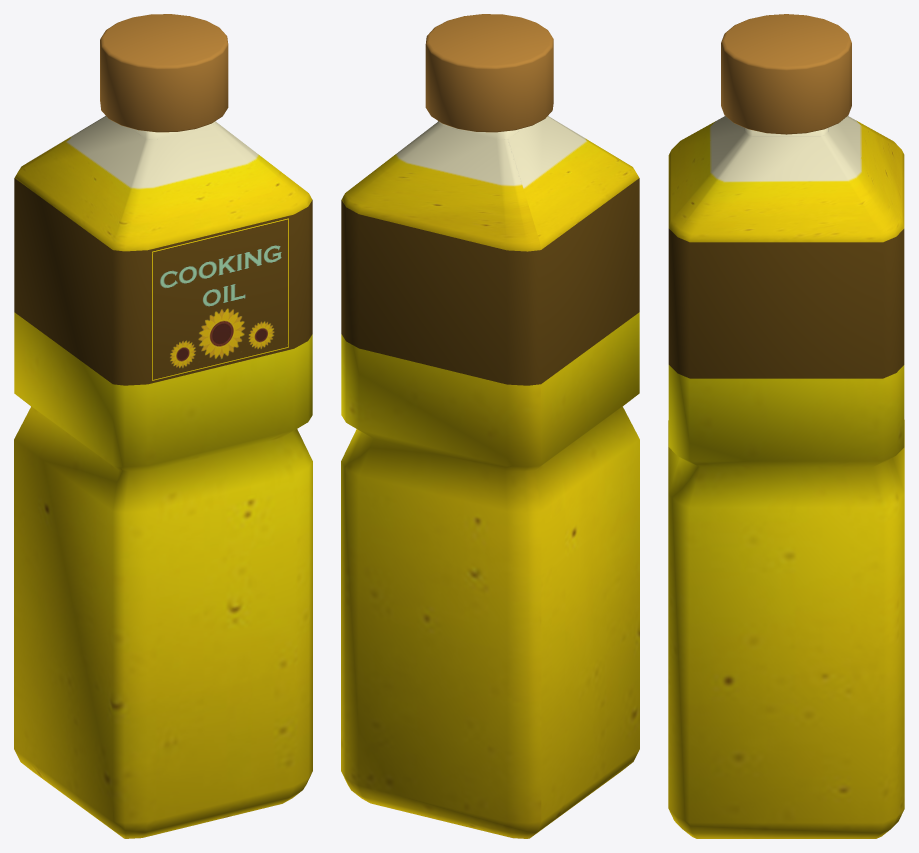
The model's file is oilBottle.fbx.
3 renders of one model, left to right at view 1: azimuth 30°, elevation 25°; view 2: azimuth 150°, elevation 25°; view 3: azimuth 270°, elevation 25°, orthographic.
Parts seen in each view (by area): view 1: oilBottle; view 2: oilBottle; view 3: oilBottle.
Boxes of the visible parts, box(x1,y1,x2,y2) form: oilBottle: box(14, 14, 312, 838); oilBottle: box(341, 14, 639, 838); oilBottle: box(668, 14, 904, 838).
Size of the model in its own units: 200 by 706 by 200.
Materials: 2 (1 with a texture image).
